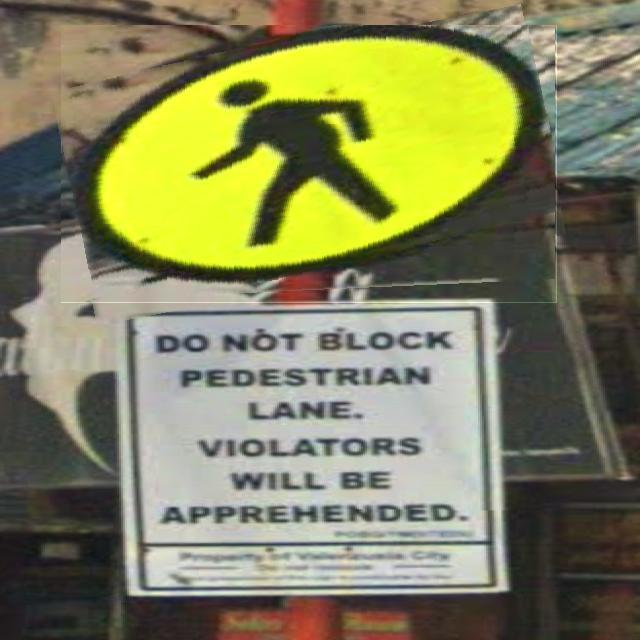pedestrian crossing: (62, 26, 558, 304)
